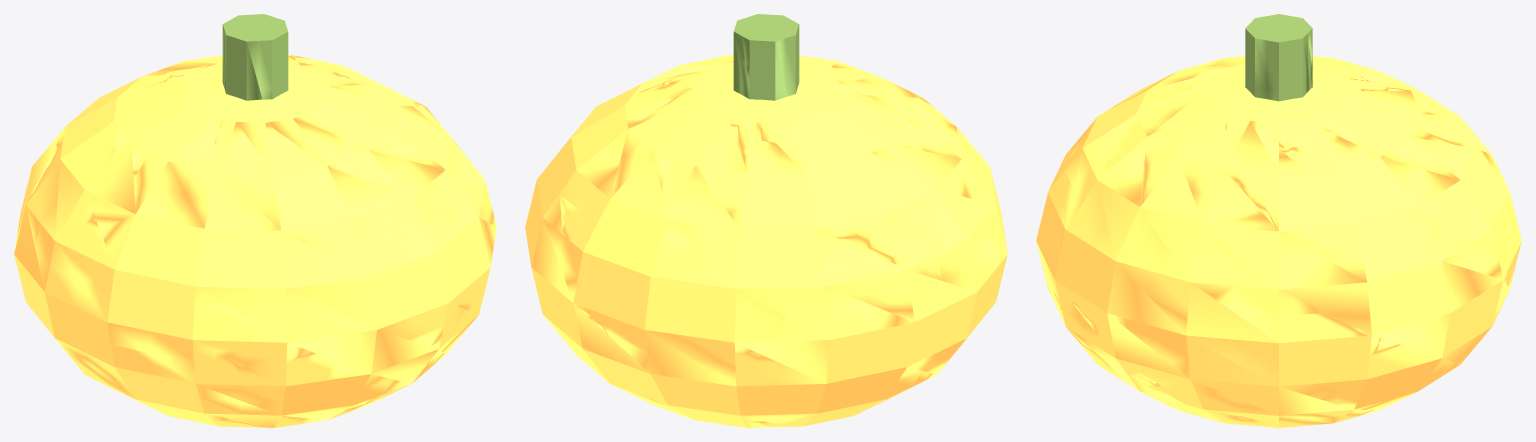
File: pumpkin.glb
The picture shows the model from 3 angles, left to right: view 1: azimuth 30°, elevation 25°; view 2: azimuth 150°, elevation 25°; view 3: azimuth 270°, elevation 25°; orthographic projection.
Visible parts, largest first — view 1: Pumpkin; view 2: Pumpkin; view 3: Pumpkin.
Boxes of the visible parts, x1,y1,x2,y2 form: Pumpkin: [14, 14, 496, 427]; Pumpkin: [525, 14, 1007, 427]; Pumpkin: [1036, 14, 1521, 427].
Bounding box in the file's own units: 2.3 × 1.93 × 2.3.
